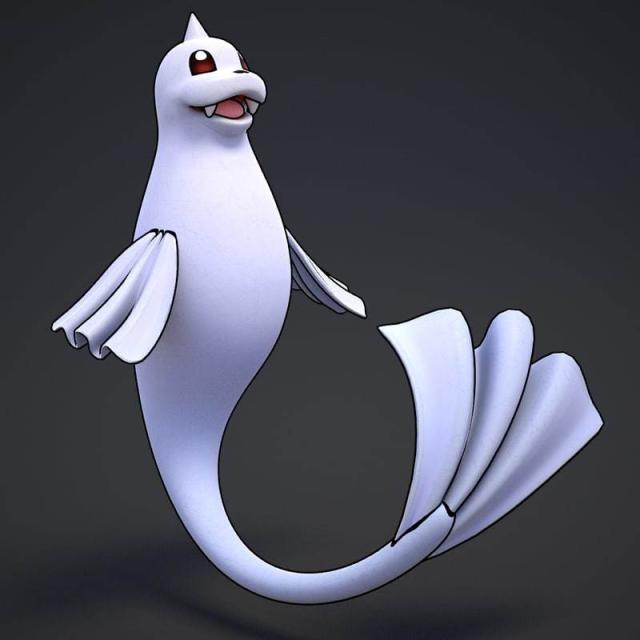Dewgong: (109, 11, 515, 601)
